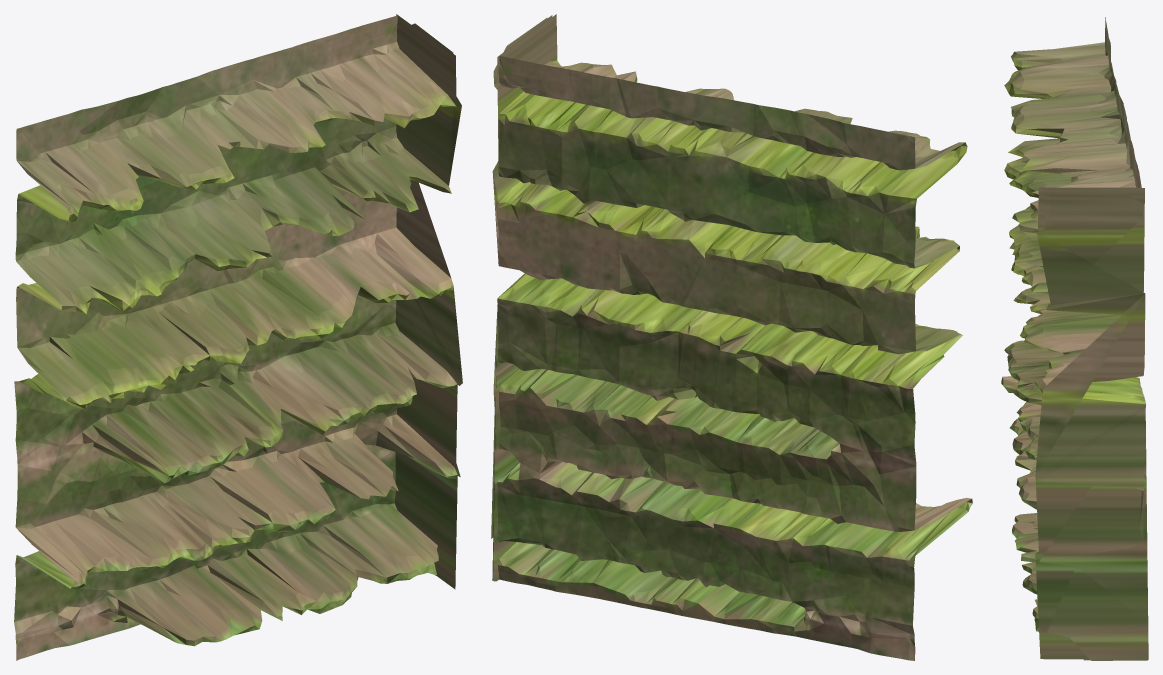
File: map_220_100.obj
3 renders of one model, left to right at view 1: azimuth 30°, elevation 25°; view 2: azimuth 150°, elevation 25°; view 3: azimuth 270°, elevation 25°, orthographic. The views are drawn at different scales.
Visible parts, largest first — view 1: grp1; view 2: grp1; view 3: grp1.
Boxes of the visible parts, left/top/right/bottom form: grp1: left=14, top=14, right=462, bottom=660; grp1: left=491, top=14, right=972, bottom=660; grp1: left=1001, top=17, right=1148, bottom=660.
Bounding box in the file's own units: 8 × 10 × 2.83.
Materials: 1 (1 with a texture image).
